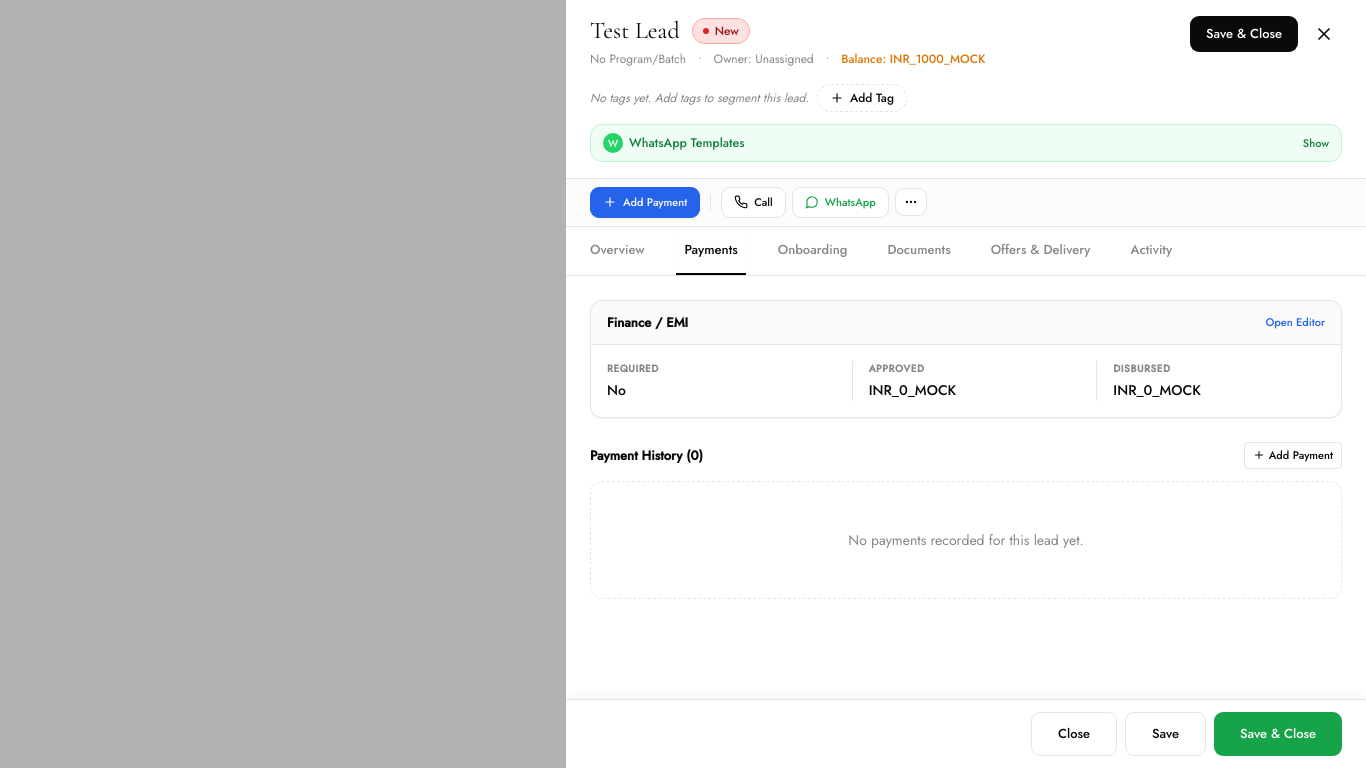
it: PaidPipelineLeadDrawer Visuals & Logic › collapses WhatsApp templates by default and reveals them when the trigger is clicked
Expected: the text "Token Received" is not shown
Expected: the text "Balance Reminder" is not shown
Click the button "W WhatsApp Templates Show" at (687, 143), box [590,124,1342,162]
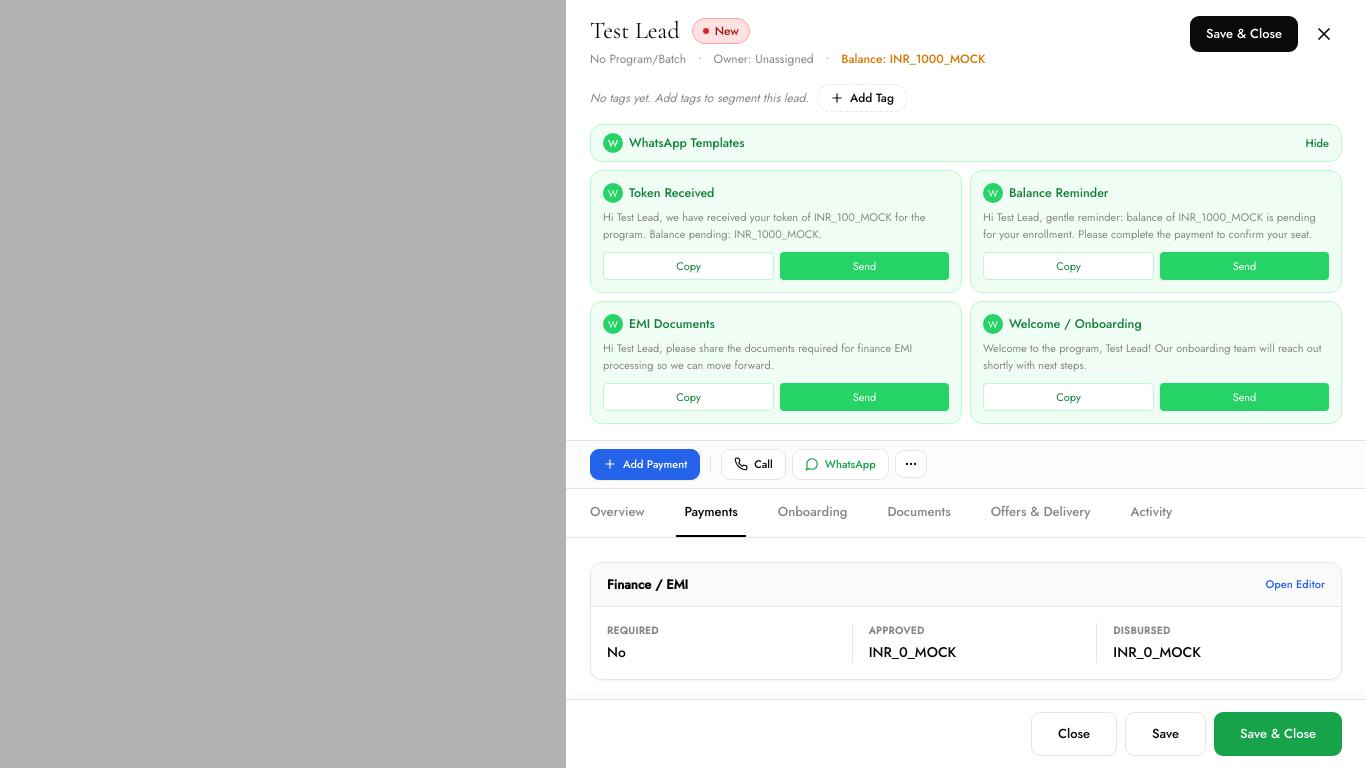
Now the text "Token Received" is shown, box [629,184,714,202]
Now the text "Balance Reminder" is shown, box [1009,184,1108,202]
Now the text "EMI Documents" is shown, box [629,315,715,333]
